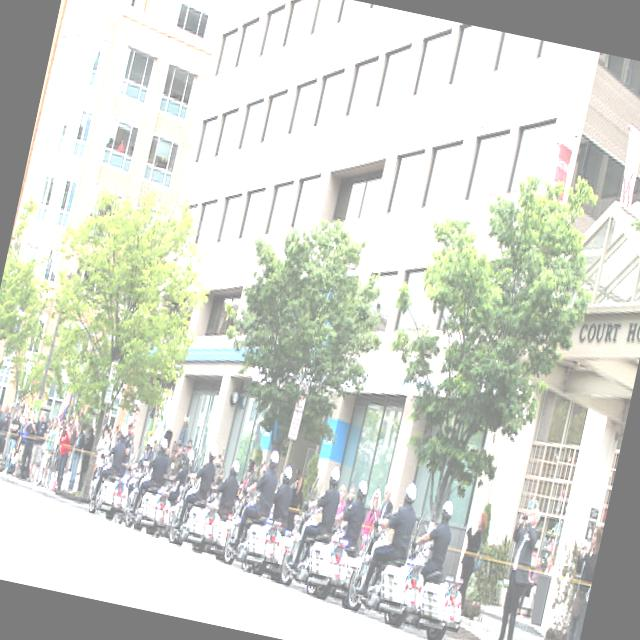Vehicle: (392, 537, 476, 640), (339, 521, 420, 626), (276, 502, 346, 600), (218, 487, 288, 578), (121, 446, 182, 538), (165, 475, 222, 554), (83, 452, 132, 524), (318, 536, 362, 610), (209, 512, 232, 560), (205, 511, 223, 554)
